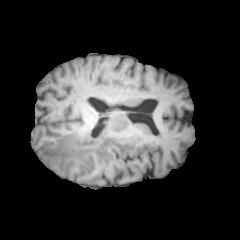glioma: (41, 115, 146, 174)
